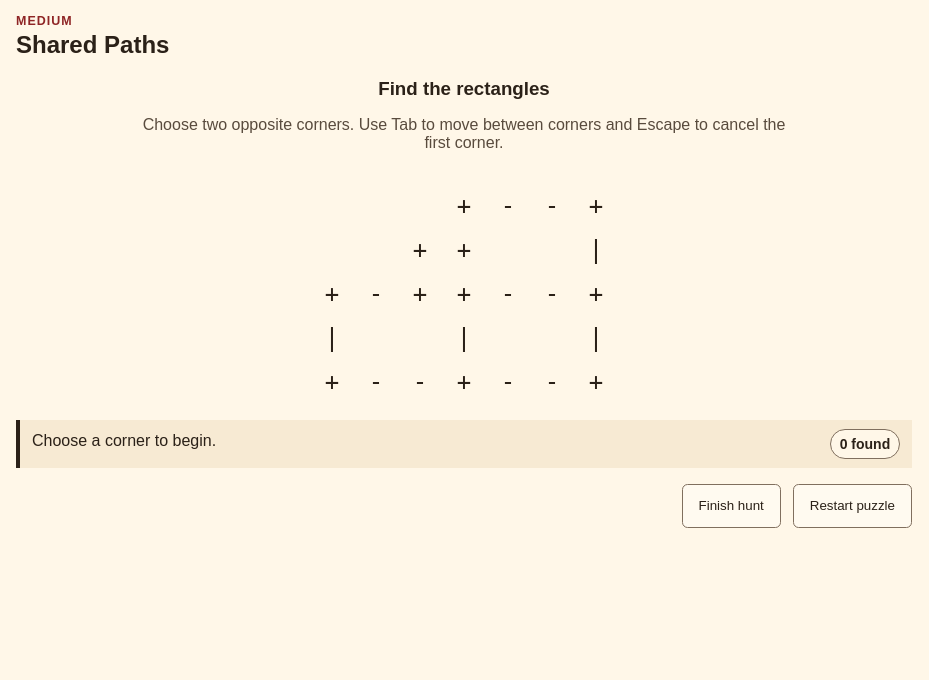
Test: Rectangle Hunt game loop › reviews found rectangles backward and forward
Click the button named "Corner at row 1, column 4" at (464, 206), box [442,184,486,228]
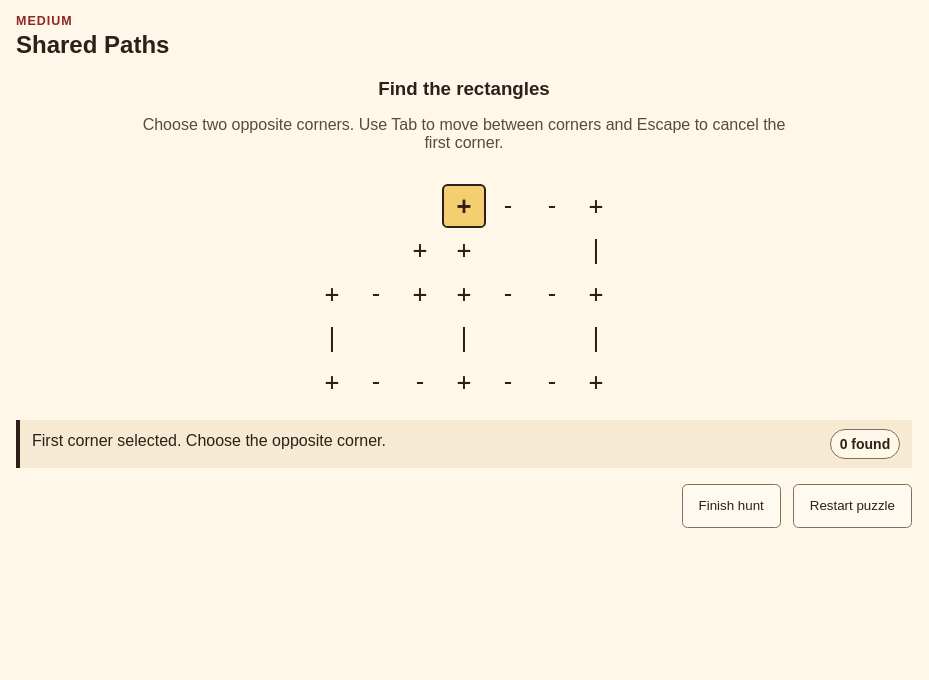
Click the 8th button "+" at (596, 294), box [574,272,618,316]
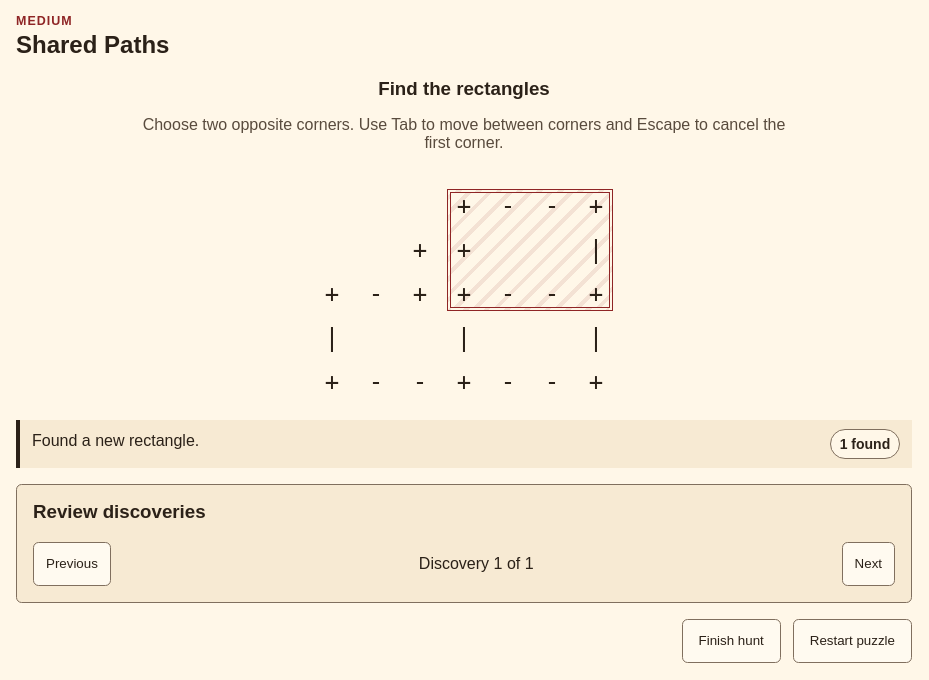
Click the 3rd button "+" at (420, 250), box [398,228,442,272]
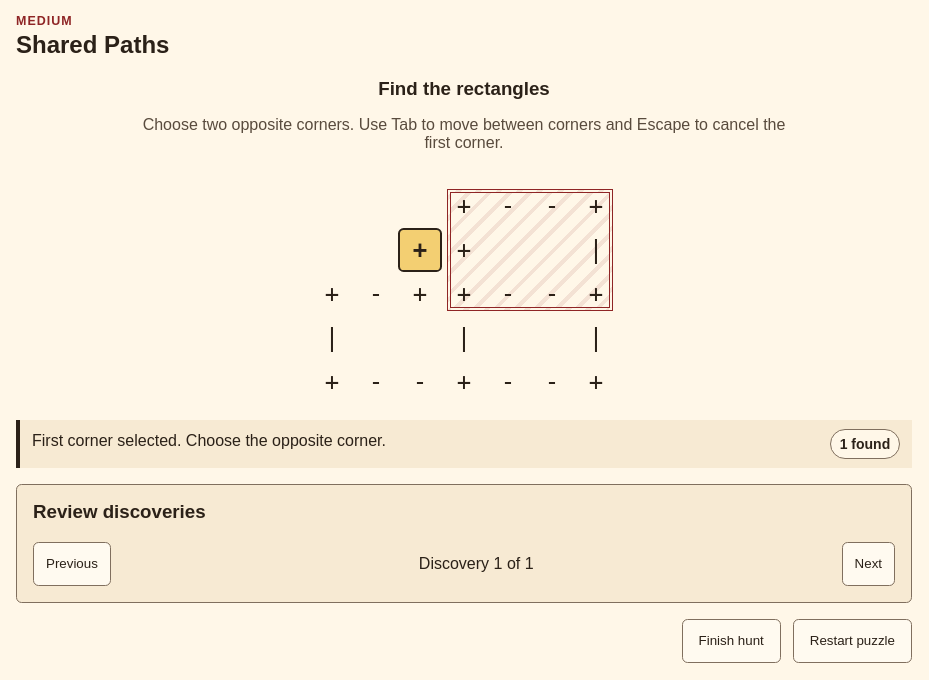
Click the 7th button "+" at (464, 294), box [442,272,486,316]
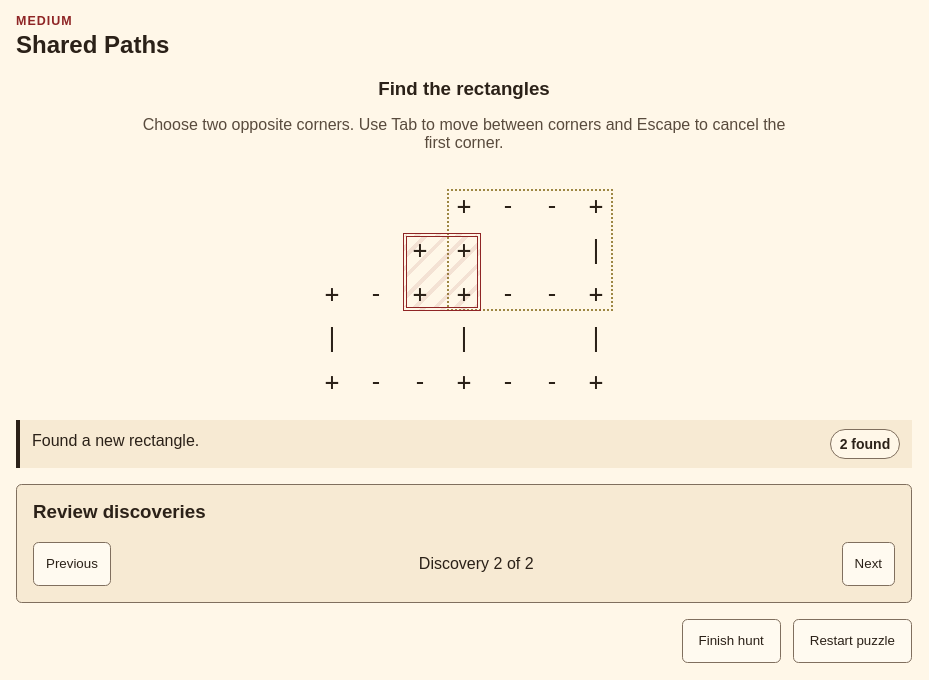
Now the text "Discovery 2 of 2" is shown, box [419,555,534,573]
Click the button "Previous" at (72, 564), box [33,542,111,586]
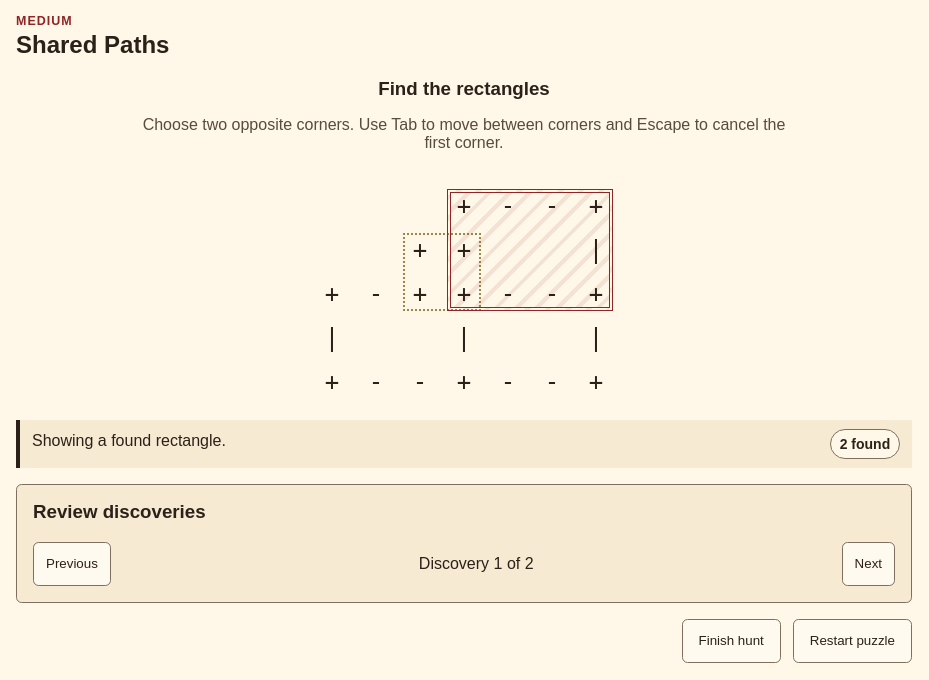
Now the text "Discovery 1 of 2" is shown, box [419,555,534,573]
Click the button "Next" at (868, 564), box [842,542,895,586]
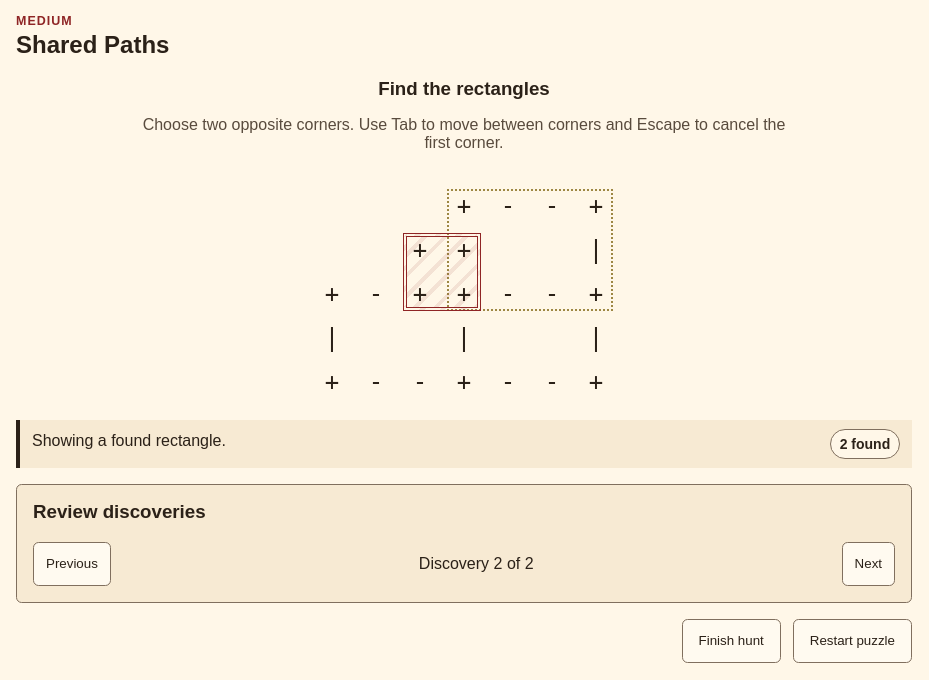
Now the text "Discovery 2 of 2" is shown, box [419,555,534,573]
